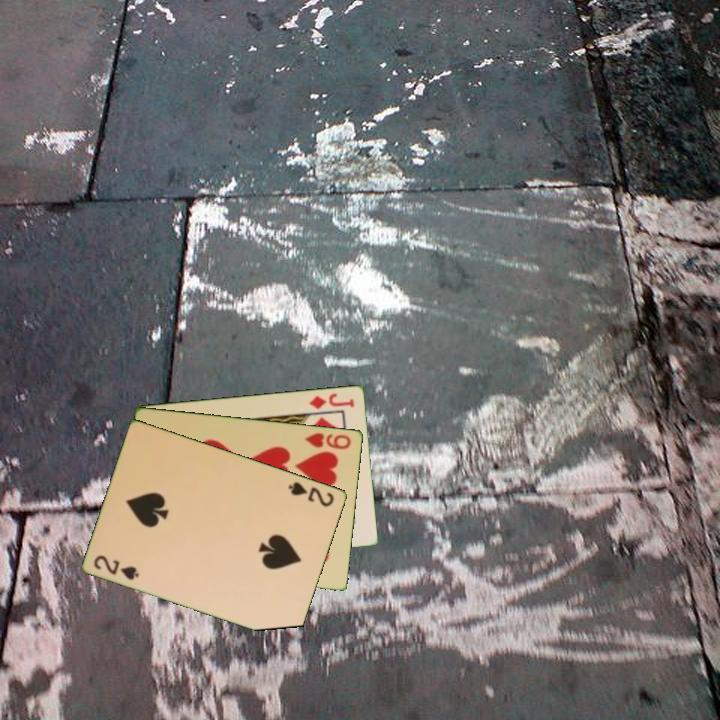2s: (90, 551, 142, 583), (285, 478, 337, 509)
9h: (301, 429, 354, 452)
Jd: (306, 390, 357, 412)
